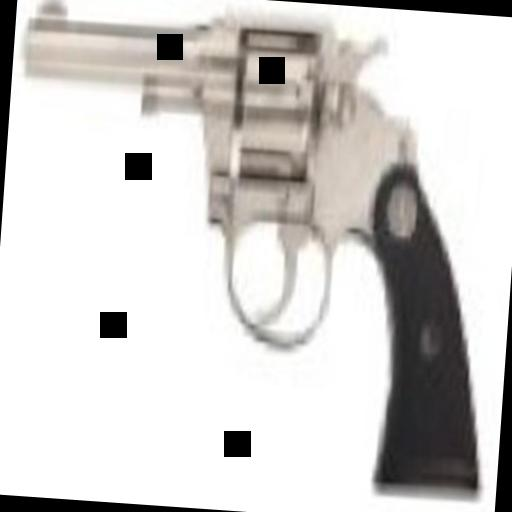Handgun: (0, 0, 507, 497)
